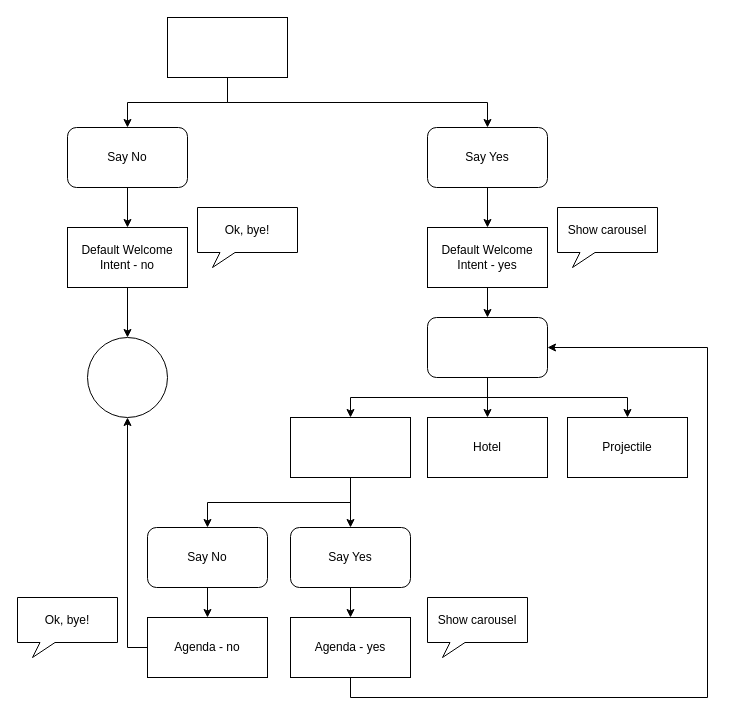
This 733x723 diagram has some shape labels left out. Here are the shapes that lost their labels. From the top down, the centre of each, then its label:
At (x=227, y=47): "Default Welcome Intent".
At (x=487, y=347): "Choose option".
At (x=350, y=447): "Agenda".
